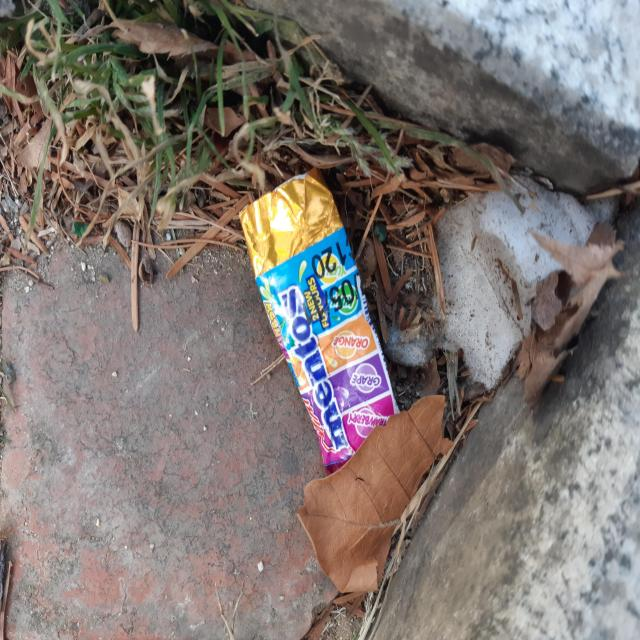nhua: (239, 177, 400, 474)
